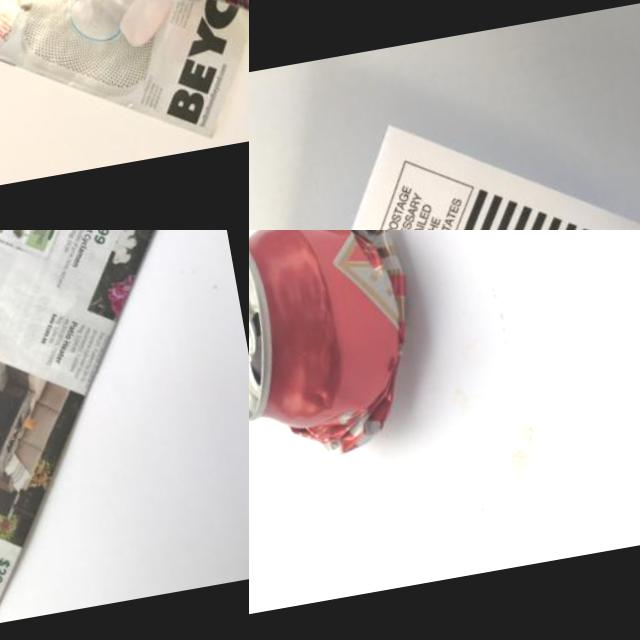aba de lata: (249, 283, 263, 363)
lata: (249, 230, 435, 469)
papel: (0, 230, 231, 640), (249, 65, 640, 230), (0, 0, 249, 183)
